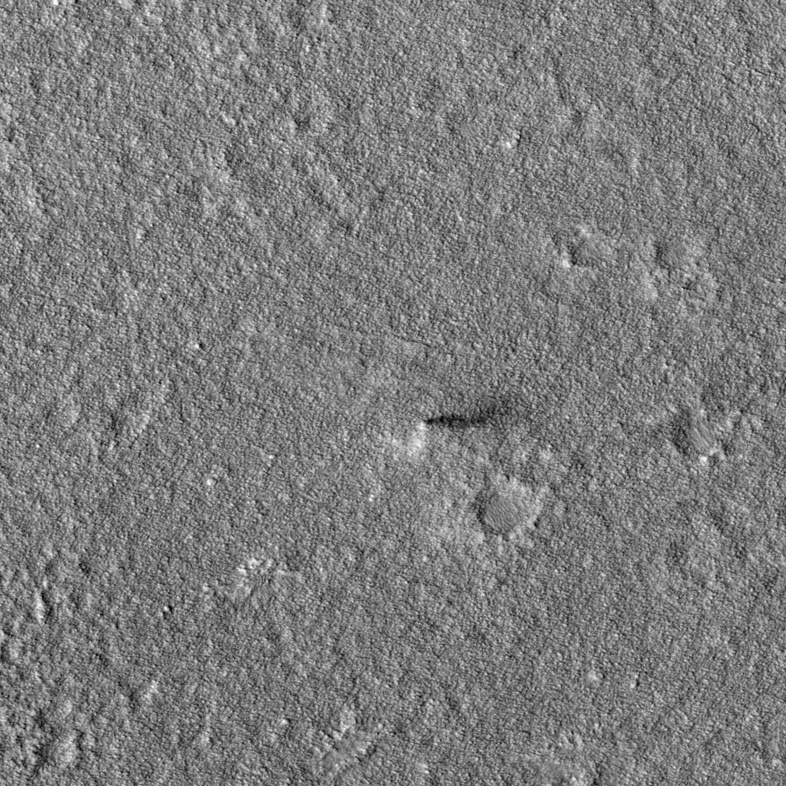dust_devil: (412, 396, 517, 455)
